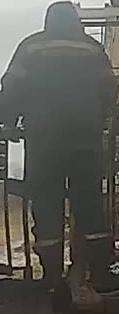vest: (10, 32, 112, 180)
